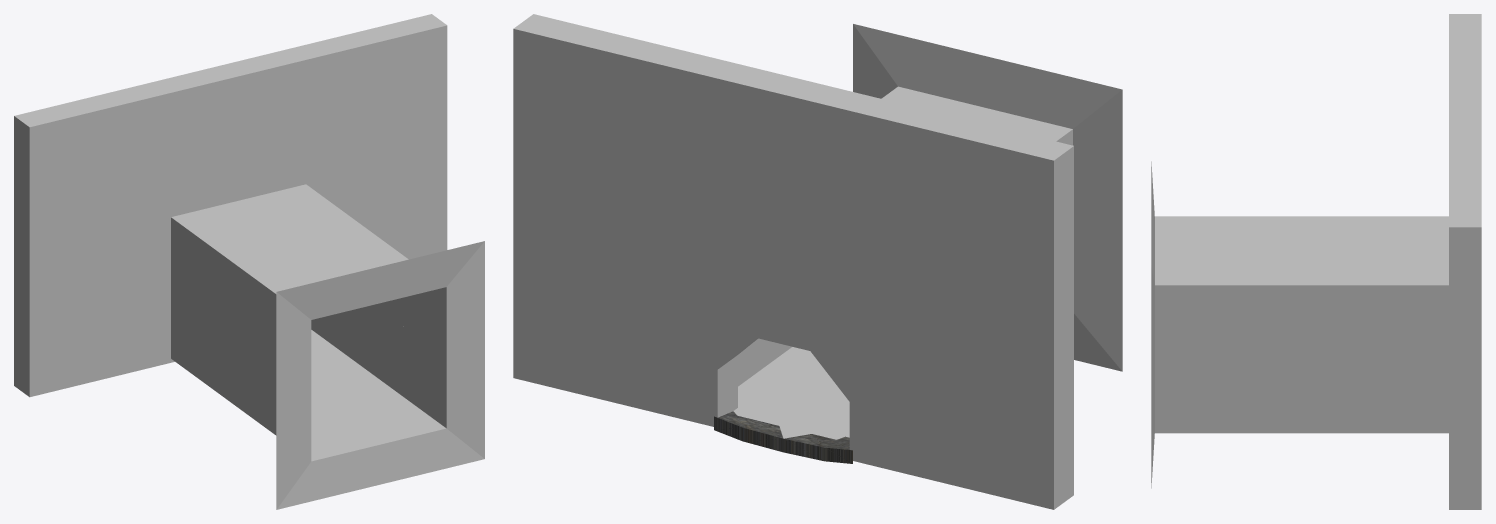
The model's file is urbancave.dae.
3 views of the same model, side by side, from view 1: azimuth 30°, elevation 25°; view 2: azimuth 150°, elevation 25°; view 3: azimuth 270°, elevation 25° (orthographic). The views are drawn at different scales.
Visible parts, largest first — view 1: BrickWall, FloorConcrete; view 2: BrickWall, FloorConcrete, CaveWall; view 3: BrickWall, FloorConcrete.
Part boxes in pixels (x1,y1,x2,y2): BrickWall: (14,14,484,400); FloorConcrete: (171,288,484,509); BrickWall: (513,14,1122,509); FloorConcrete: (733,221,1122,439); CaveWall: (714,411,852,463); BrickWall: (1151,14,1481,509); FloorConcrete: (1151,359,1448,488).
Bounding box in the file's own units: 1546 × 1012 × 1075.
